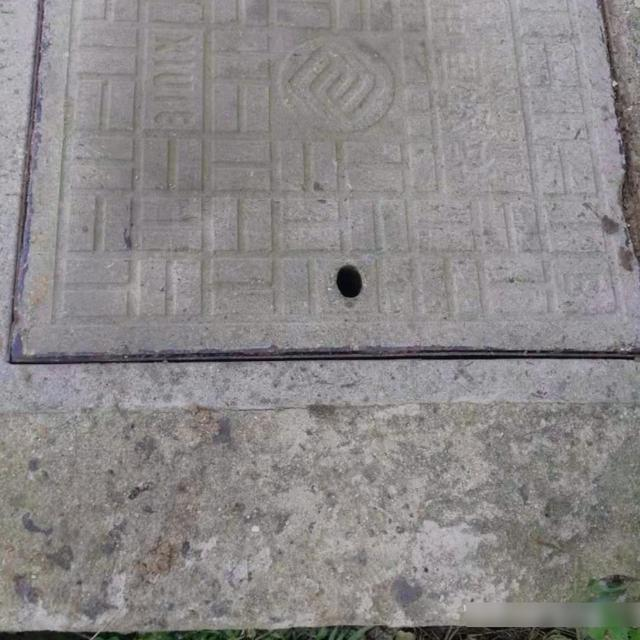good: (0, 0, 640, 416)
